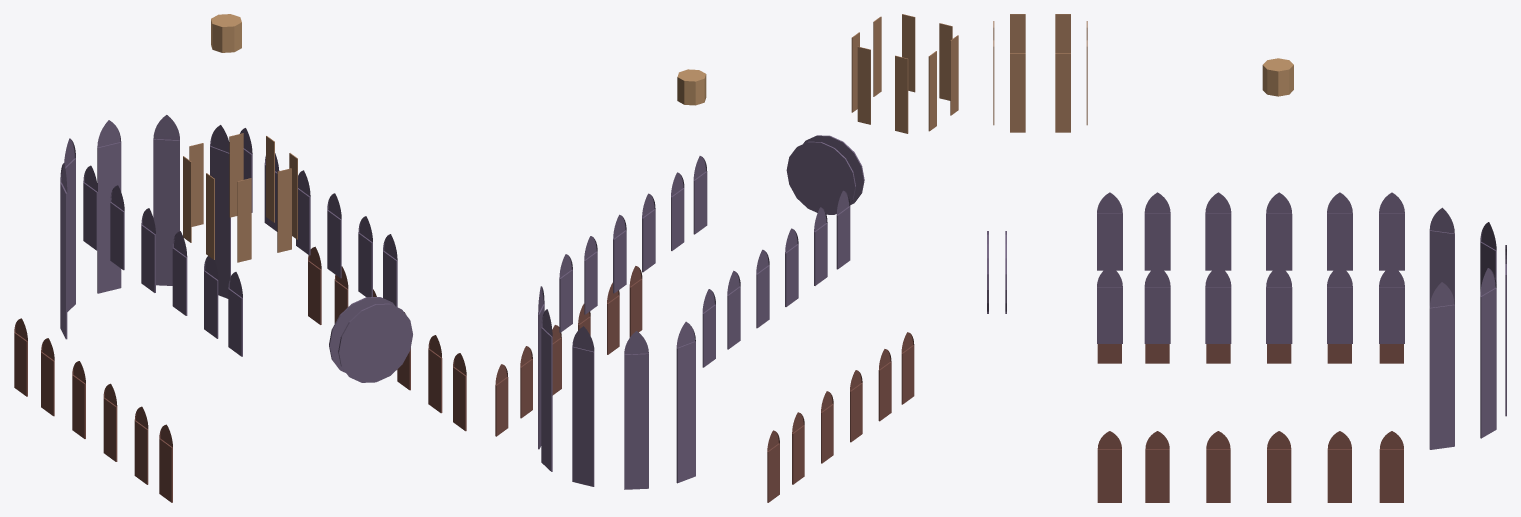
File: cathedral-glass.glb
The picture shows the model from 3 angles, left to right: view 1: azimuth 30°, elevation 25°; view 2: azimuth 150°, elevation 25°; view 3: azimuth 270°, elevation 25°; orthographic projection. The views are drawn at different scales.
Visible parts, largest first — view 1: cathedral-glass; view 2: cathedral-glass; view 3: cathedral-glass.
Part boxes in pixels (x1=…): cathedral-glass: x1=14, y1=14, x2=466, y2=502; cathedral-glass: x1=495, y1=14, x2=958, y2=502; cathedral-glass: x1=987, y1=14, x2=1506, y2=502.
Size of the model in its own units: 19.26 by 23.4 by 29.94.
